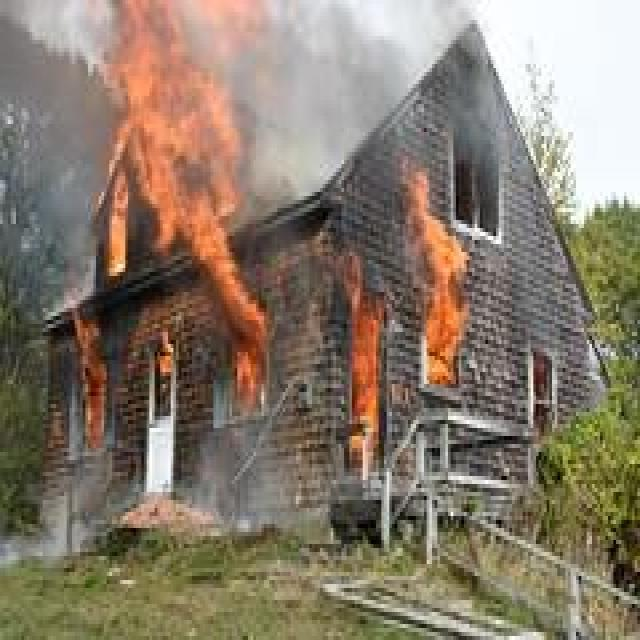fire: (101, 0, 232, 232), (180, 220, 268, 408), (408, 182, 467, 382), (327, 258, 380, 470), (64, 306, 107, 454), (102, 228, 134, 284)
smoke: (233, 2, 399, 206), (3, 0, 101, 308), (177, 406, 327, 546), (435, 6, 512, 182), (0, 454, 112, 562)
